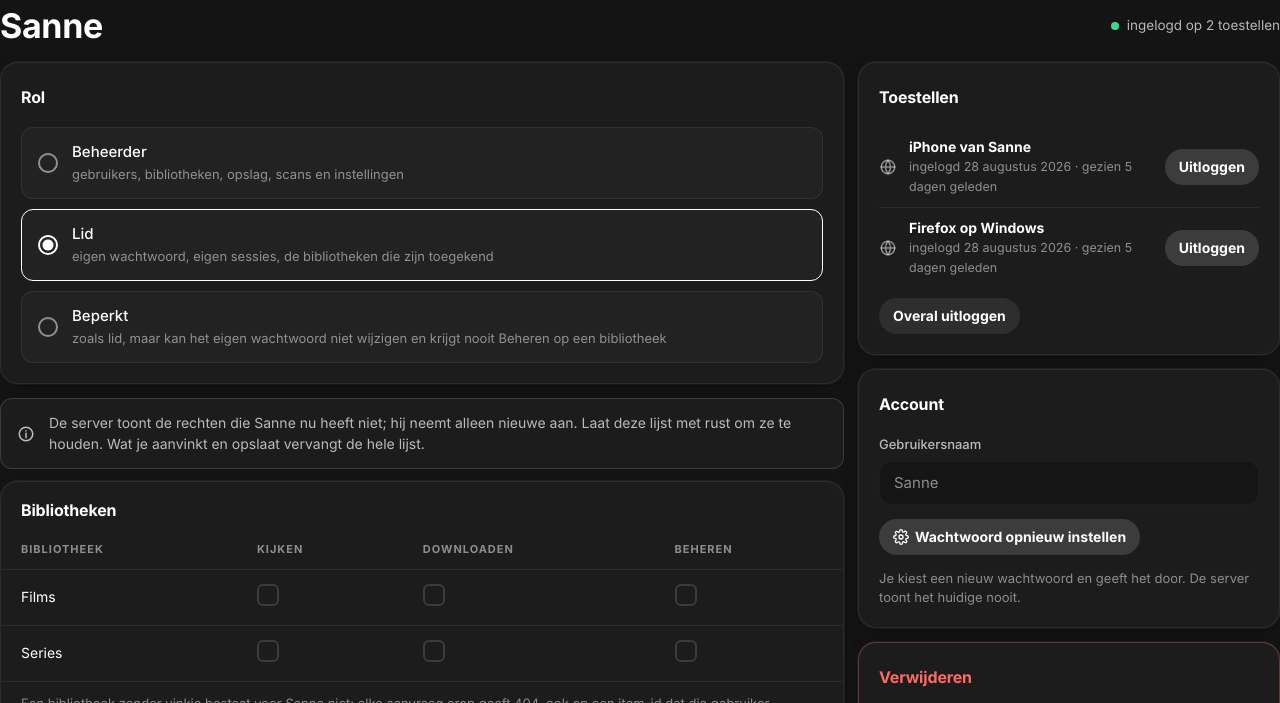
Test: bibliotheekrechten › stuurt een lege lijst alleen na een bevestiging die dat zegt
This screenshot has width=1280, height=703.
Click the checkbox named "Films, Kijken".
click(268, 595)  # box [257,584,279,606]
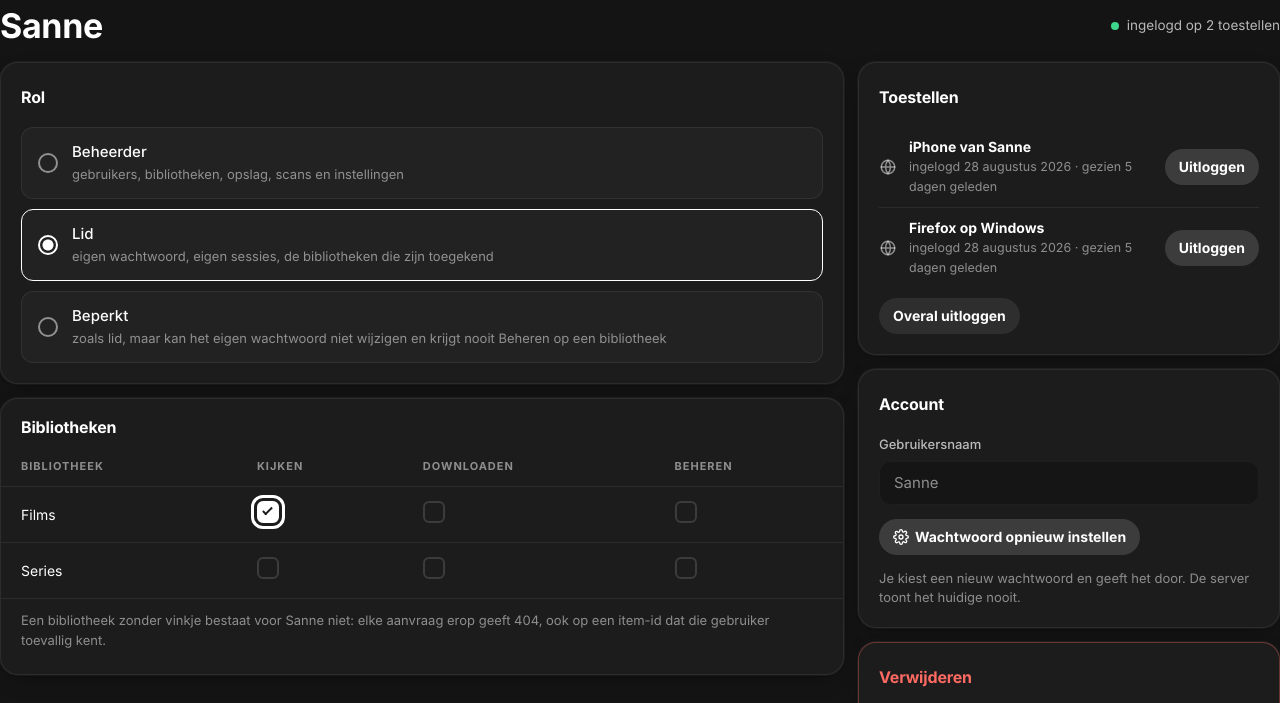
Click the checkbox named "Films, Kijken".
click(268, 512)  # box [257,501,279,523]
(page scrolled)
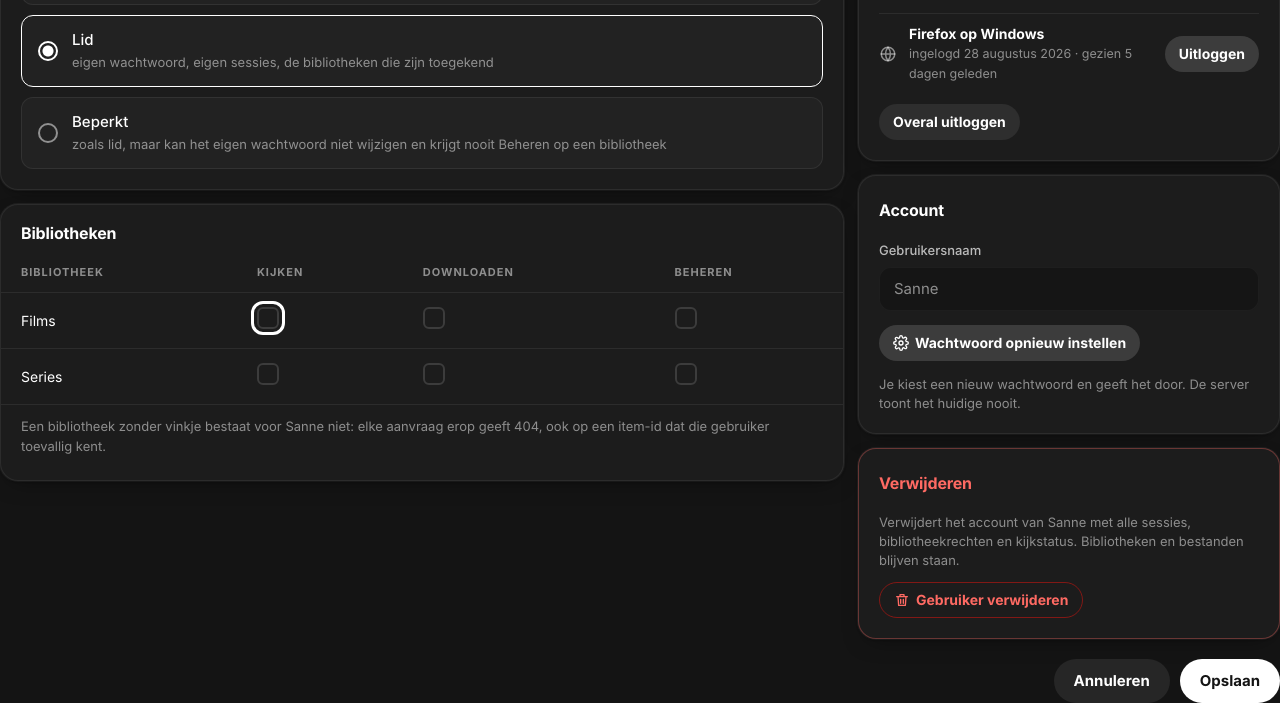
Click the button "Opslaan".
click(1230, 681)  # box [1180,659,1279,702]
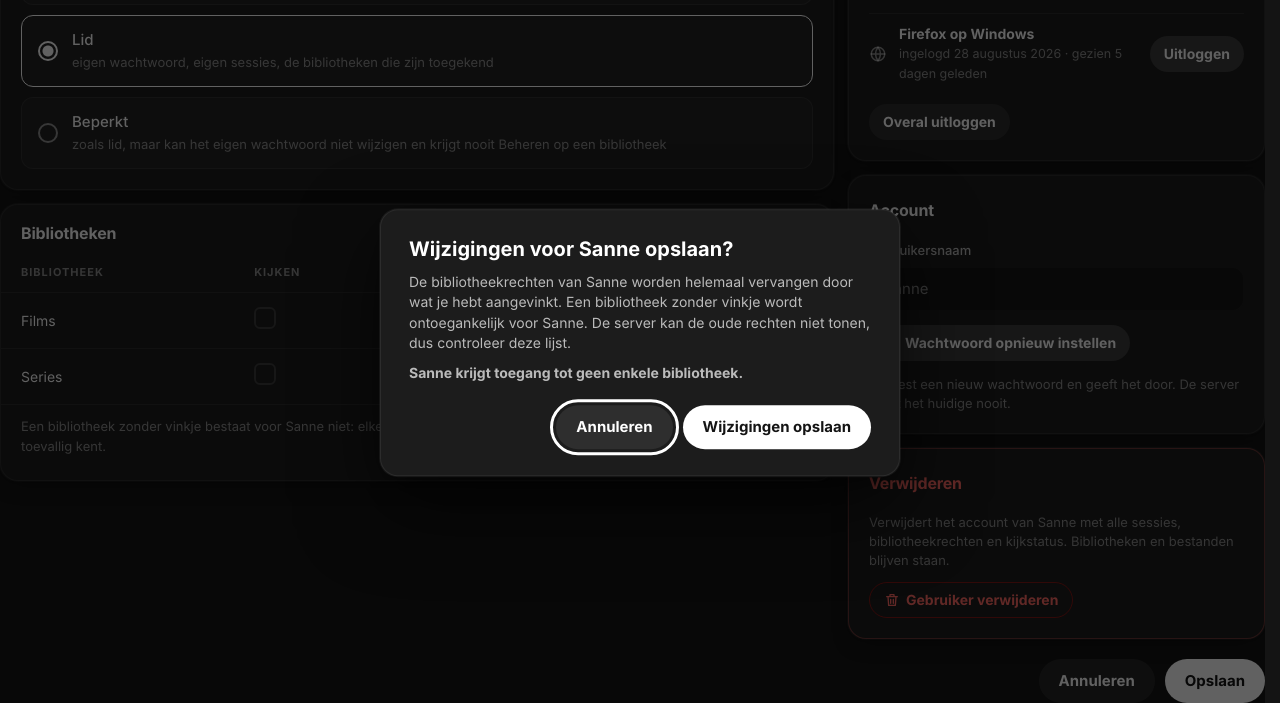
expect the dialog shows "toegang tot geen enkele bibliotheek": met, box [409,364,743,381]
